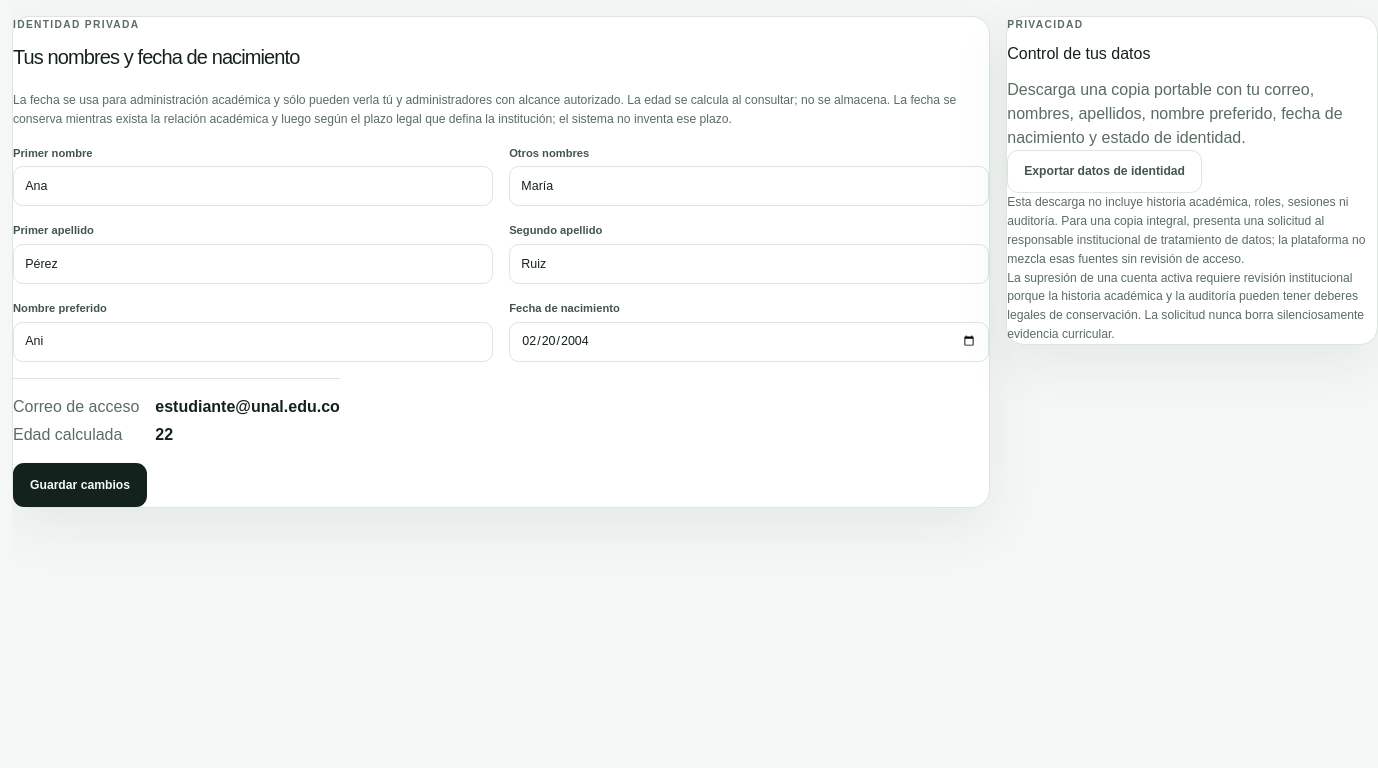
Test: PersonProfileForm › updates only the authenticated person's structured identity with its version
This screenshot has width=1378, height=768.
Replace the text in the field labelled "Primer nombre" with "Ana Sofía" at {"x": 253, "y": 186}, box [13,166,493,206]
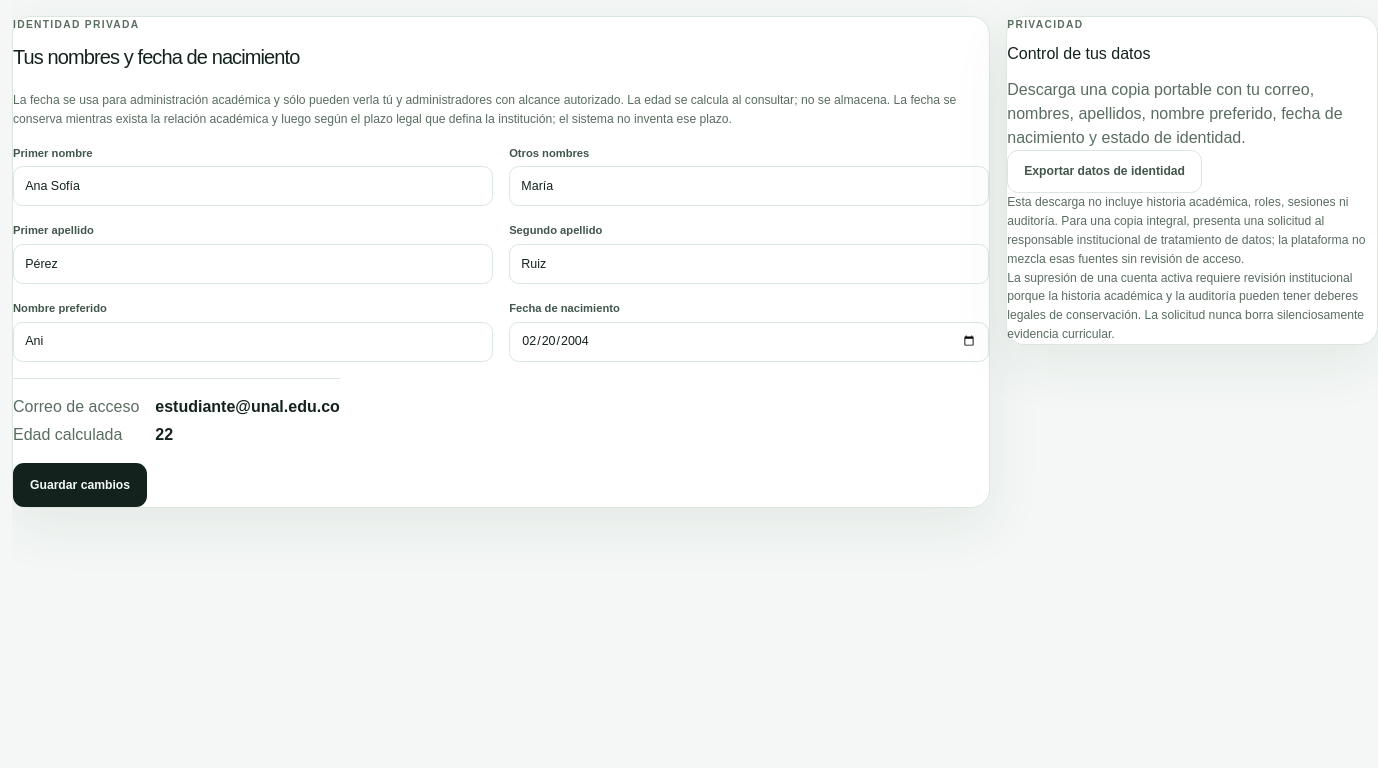
Click the button "Guardar cambios" at {"x": 80, "y": 485}, box [13,463,147,507]
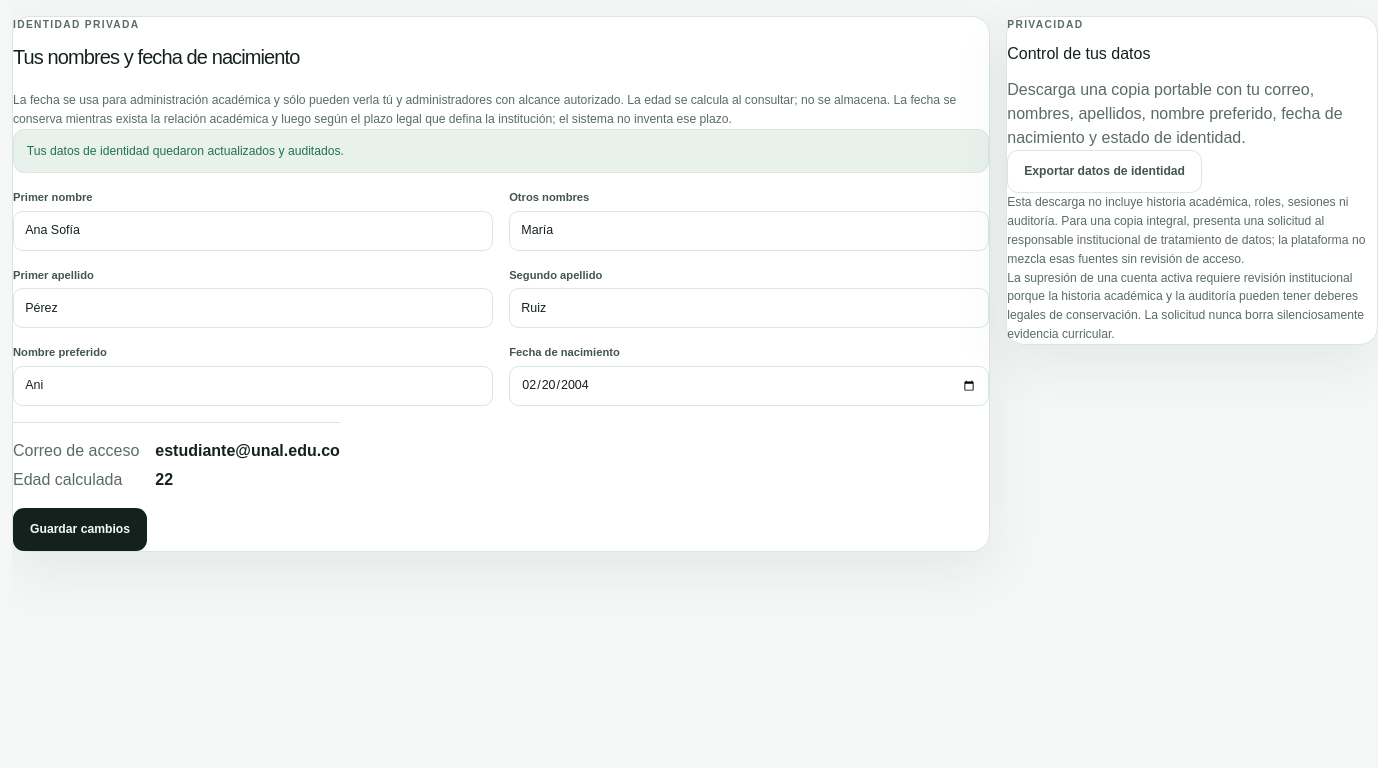
Now the message shows "actualizados y auditados", box [27,144,344,158]
